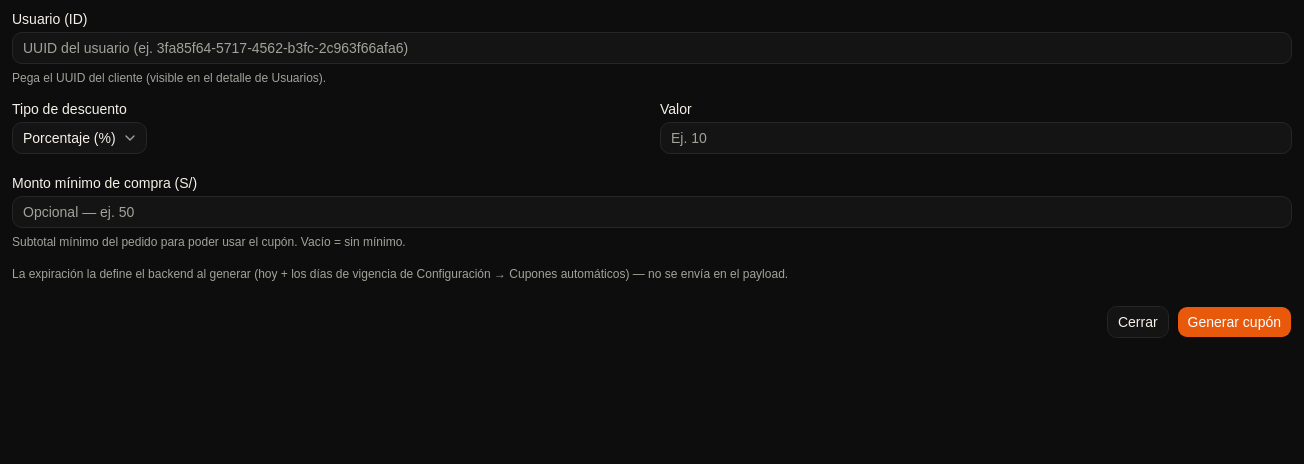
Test: GenerateCouponForm › permite fixed_amount > 100 (ej. S/150) y envía el payload correcto
In the field labelled "Usuario (ID)": [652, 48] box [12,32,1292,64], type "3fa85f64-5717-4562-b3fc-2c963f66afa6"
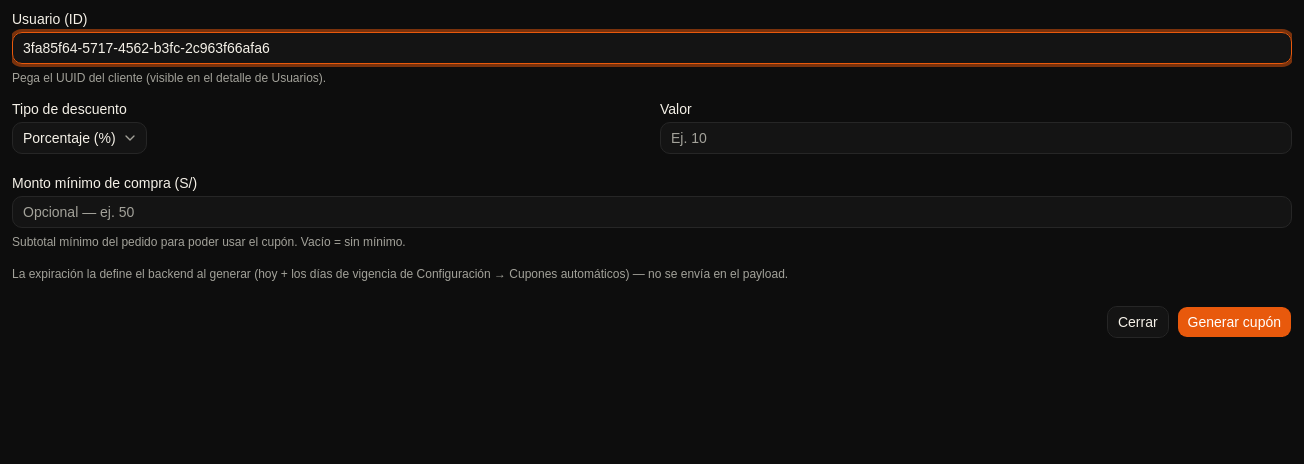
Click the dropdown named "Tipo de descuento": [79, 138] box [12,122,147,154]
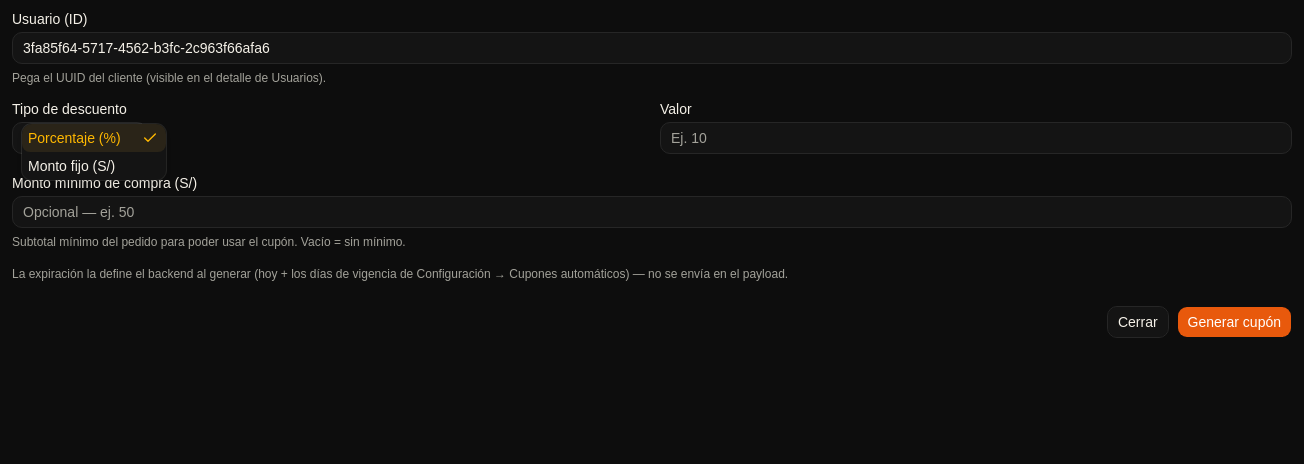
Click the option "Monto fijo (S/)": [72, 166] box [28,158,115,174]
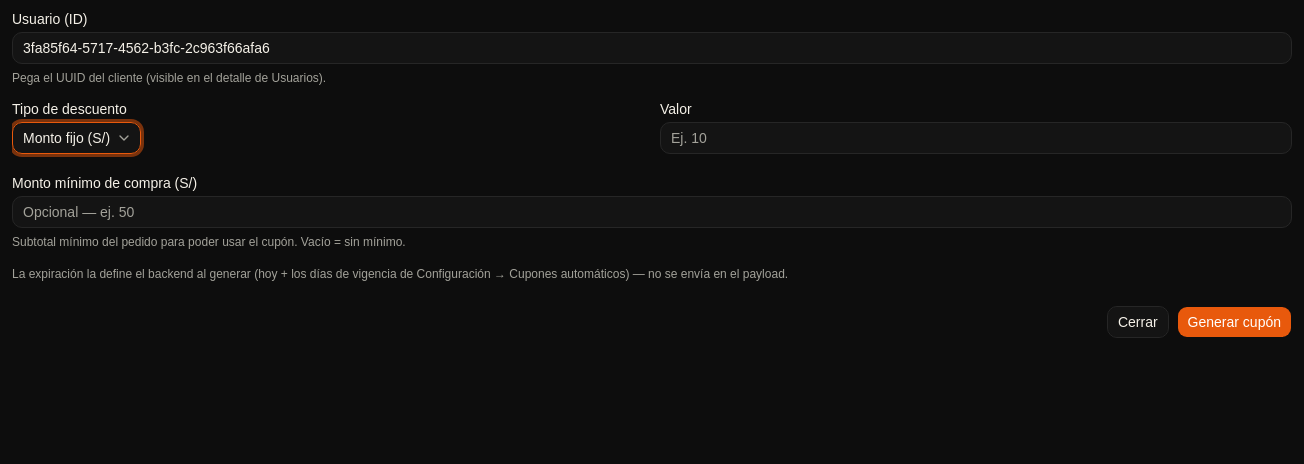
In the number field labelled "Valor": [976, 138] box [660,122,1292,154], type "150"
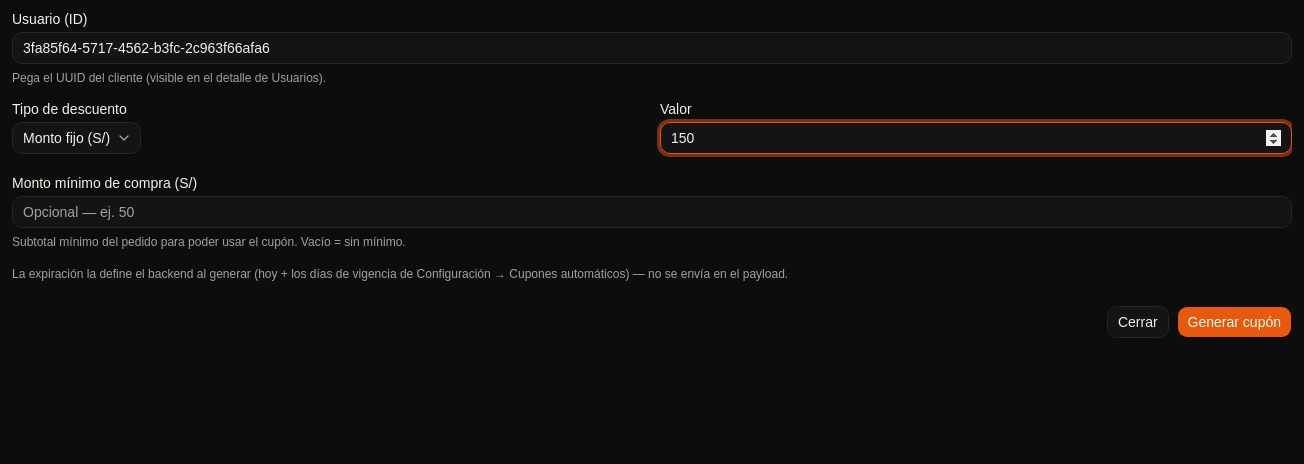
Click the button "Generar cupón": [1234, 322] box [1177,306,1292,338]
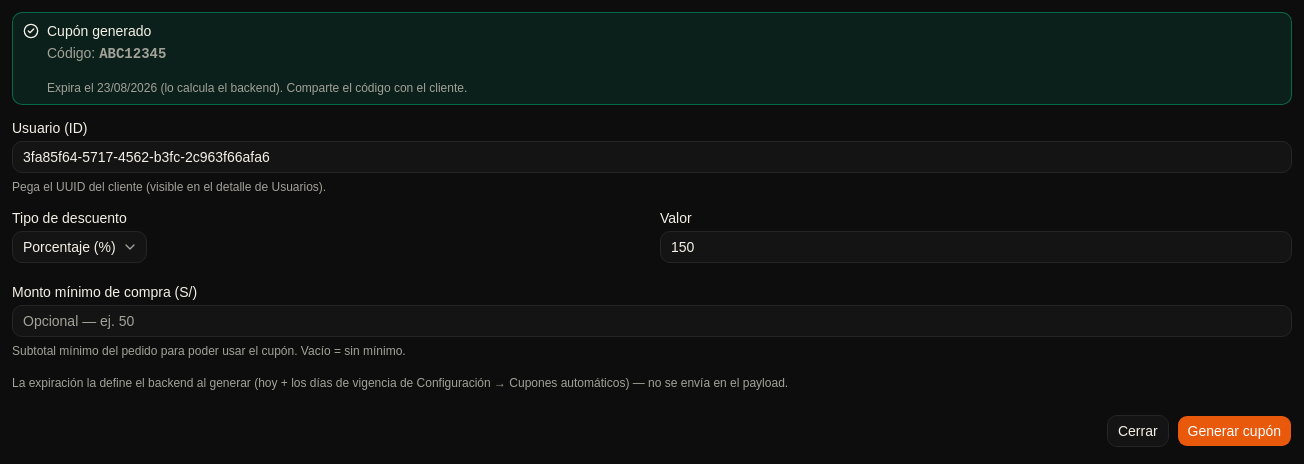
expect the text "Cupón generado" is shown: met, box [47,23,151,39]
